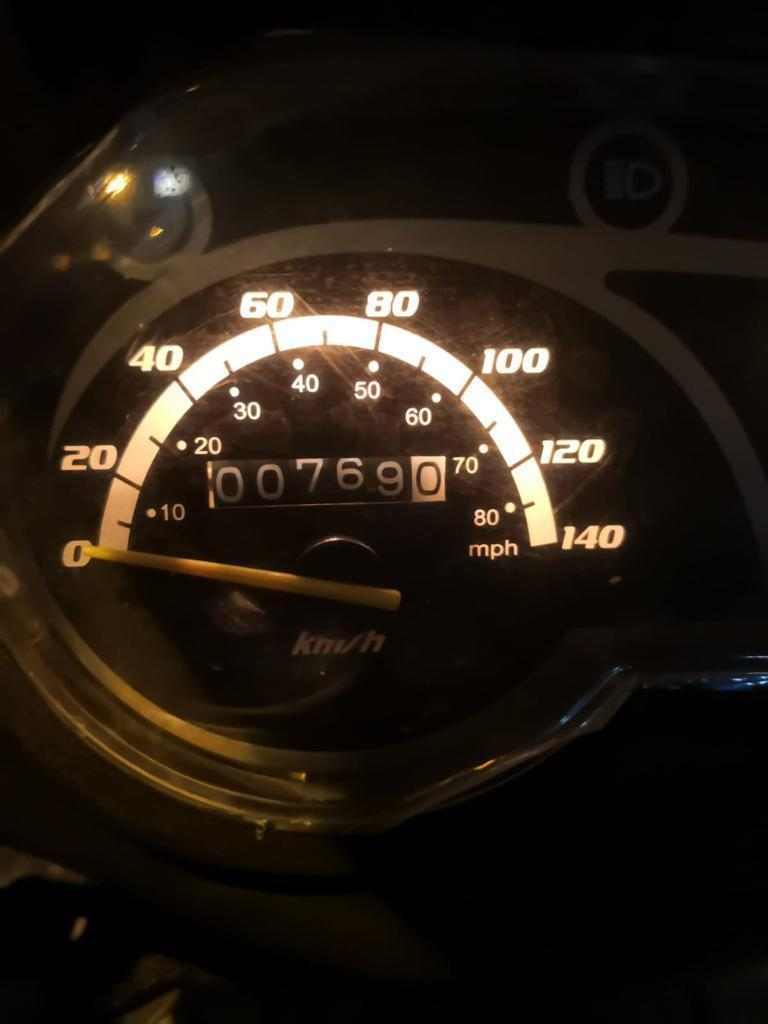0: (255, 463, 285, 500), (214, 466, 244, 503), (416, 461, 441, 495)
6: (335, 457, 364, 491)
7: (295, 457, 324, 493)
9: (376, 459, 403, 496)
odometer: (204, 454, 449, 512)
